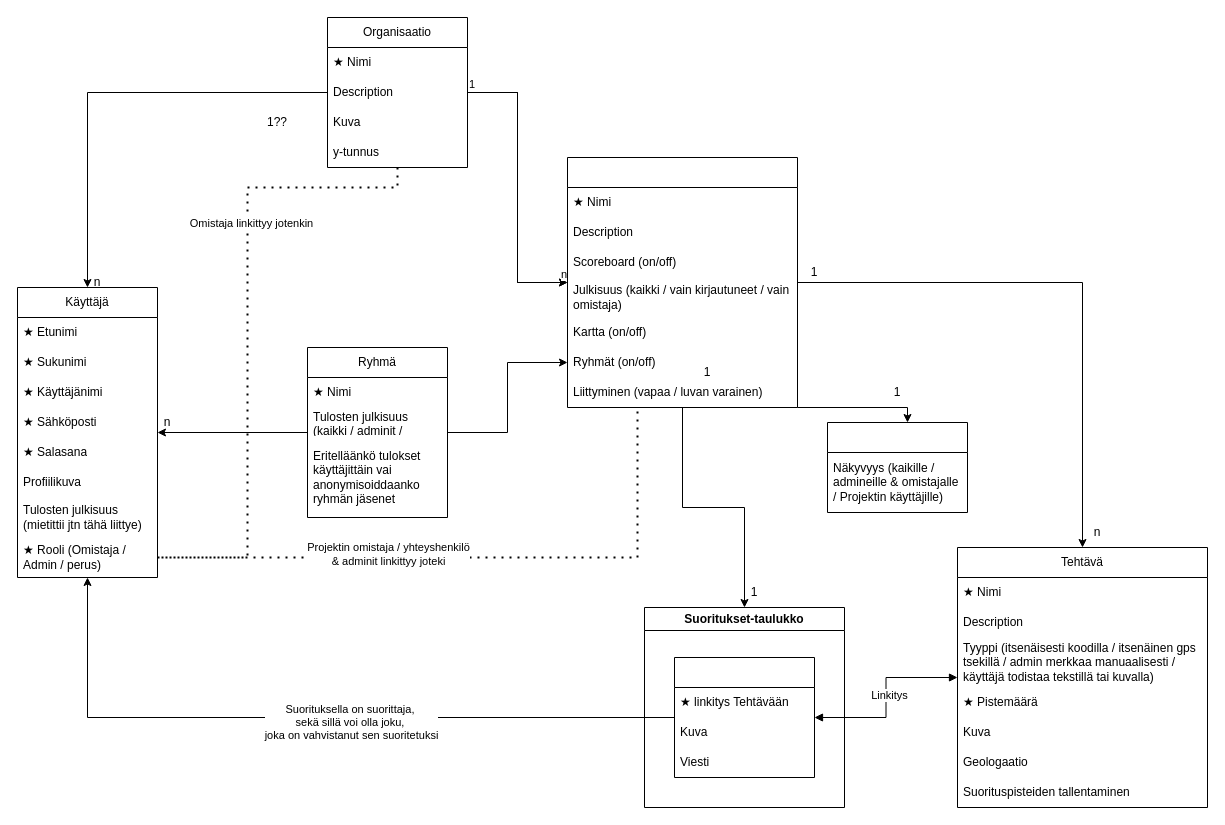
Image size: 1225x825. Some labels were removed from this diagram. Each missing label, with the box of its shape:
Projekti: (566, 156, 798, 408)
Scoreboard: (826, 422, 968, 512)
Suoritus: (674, 656, 814, 778)
